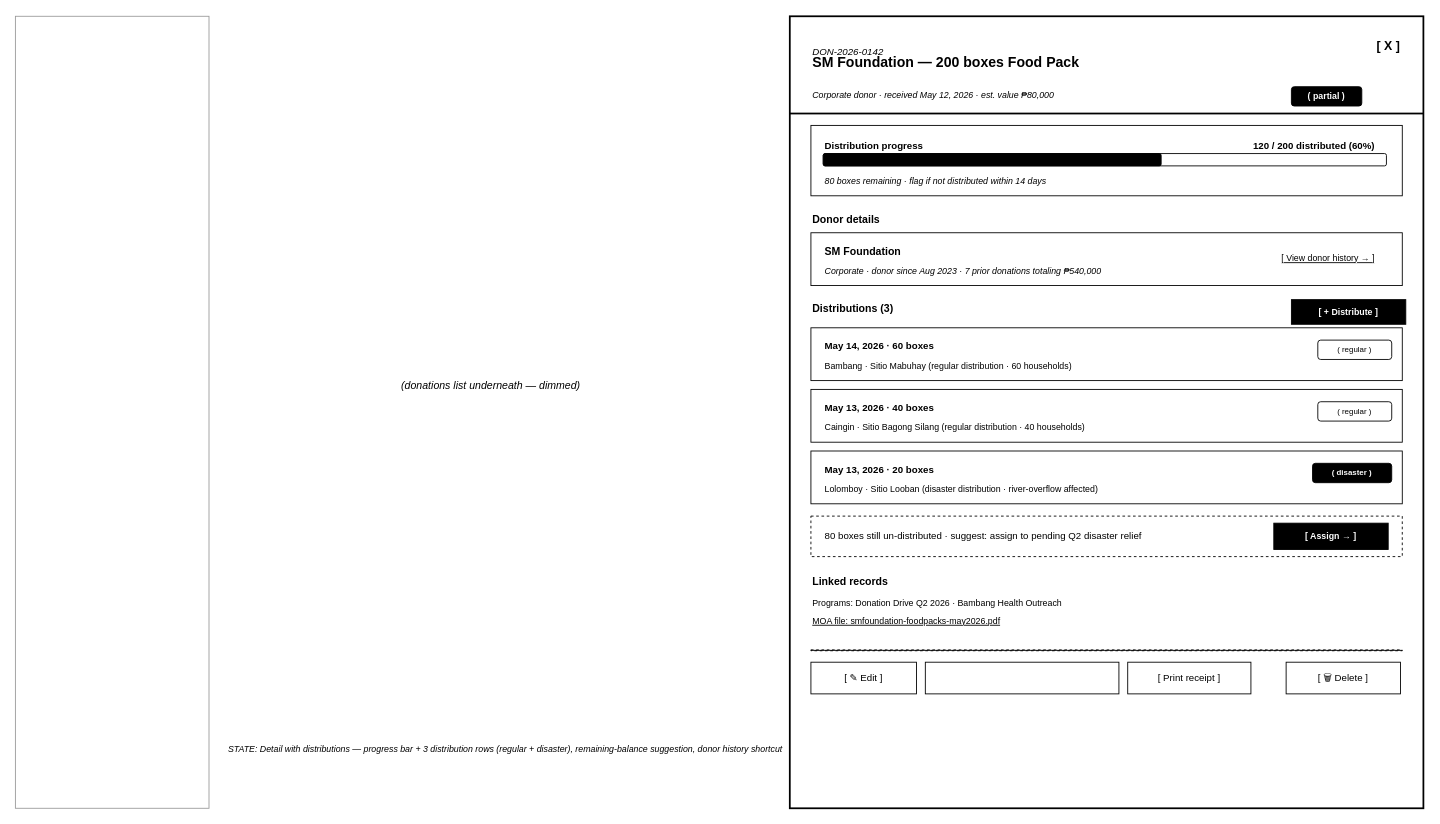
The diagram is 1440 pixels wide and 824 high, and some of its shapes have lost their labels. The box of each missing label's shape, as (x1, y1, x2, y2) in pixels:
[ 🗐 Acknowledgement letter ]: (924, 661, 1119, 694)
AGAPE: (15, 15, 209, 808)
